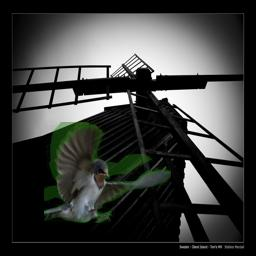Swallow: (44, 122, 171, 223)
